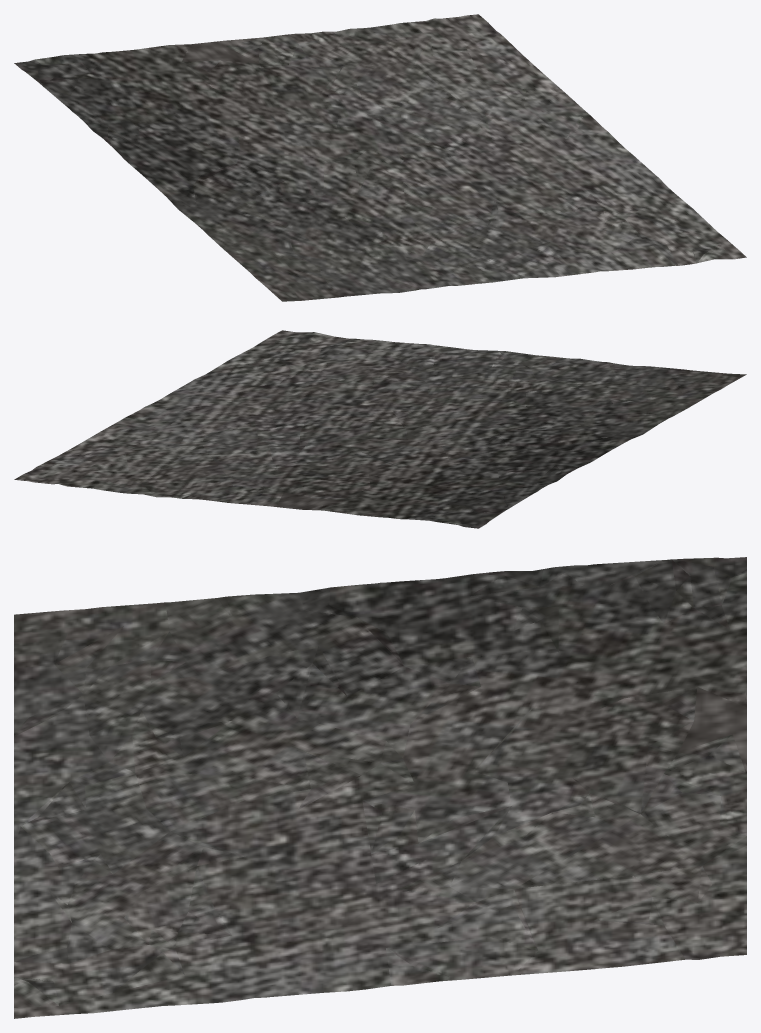
3 views of the same model, one above another, from view 1: azimuth 30°, elevation 25°; view 2: azimuth 150°, elevation 25°; view 3: azimuth 270°, elevation 25° (orthographic). The views are drawn at different scales.
Size of the model in its own units: 0.8374 by 0.1917 by 0.8374.
Materials: 3 (3 with a texture image).
